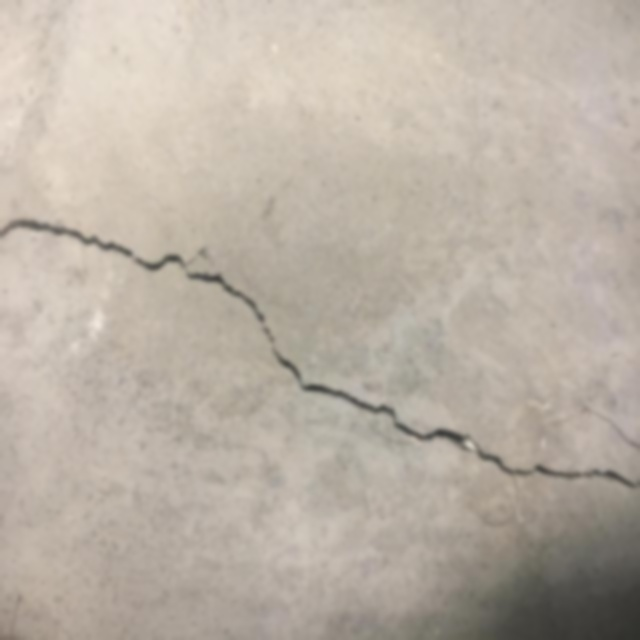SurfaceCrack: (0, 188, 639, 551)
